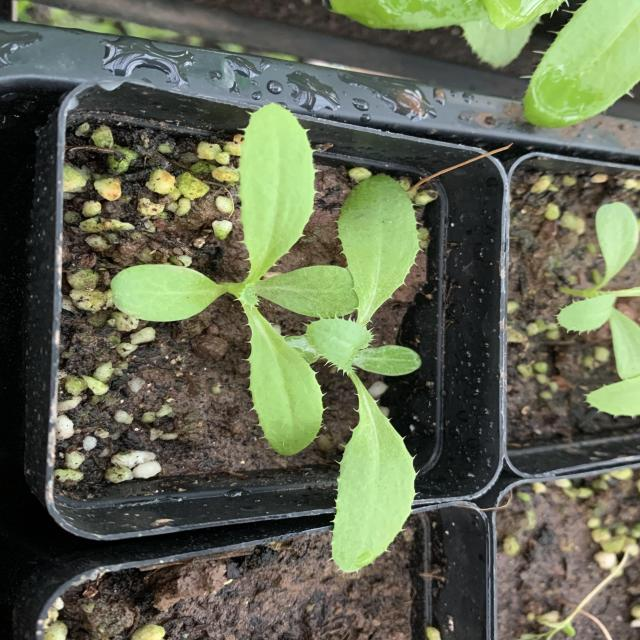field_thistle: (74, 261, 479, 550), (160, 195, 597, 358)
